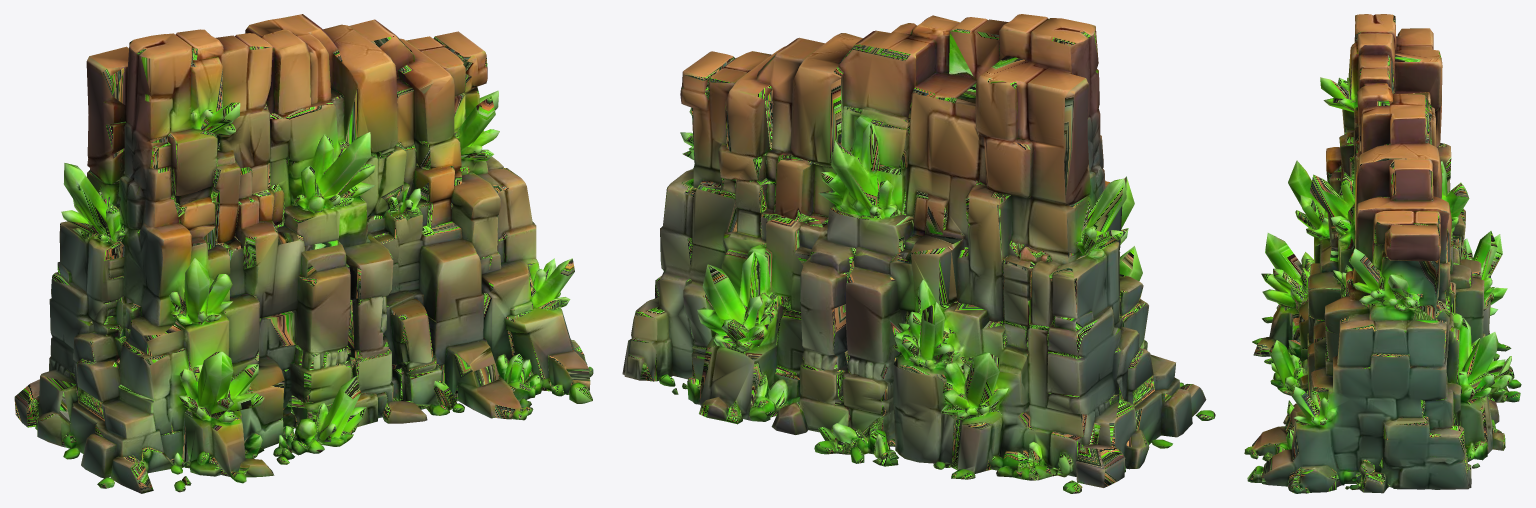
File: Emerald_Gleam_Wall.glb
3 renders of one model, left to right at view 1: azimuth 30°, elevation 25°; view 2: azimuth 150°, elevation 25°; view 3: azimuth 270°, elevation 25°, orthographic. The views are drawn at different scales.
Parts seen in each view (by area): view 1: Emerald_Gleam_Wall; view 2: Emerald_Gleam_Wall; view 3: Emerald_Gleam_Wall.
Boxes of the visible parts, x1,y1,x2,y2 form: Emerald_Gleam_Wall: [14, 14, 593, 493]; Emerald_Gleam_Wall: [622, 14, 1215, 493]; Emerald_Gleam_Wall: [1244, 14, 1521, 493].
Bounding box in the file's own units: 2 × 1.51 × 1.19.
1 material, 1 textured.
